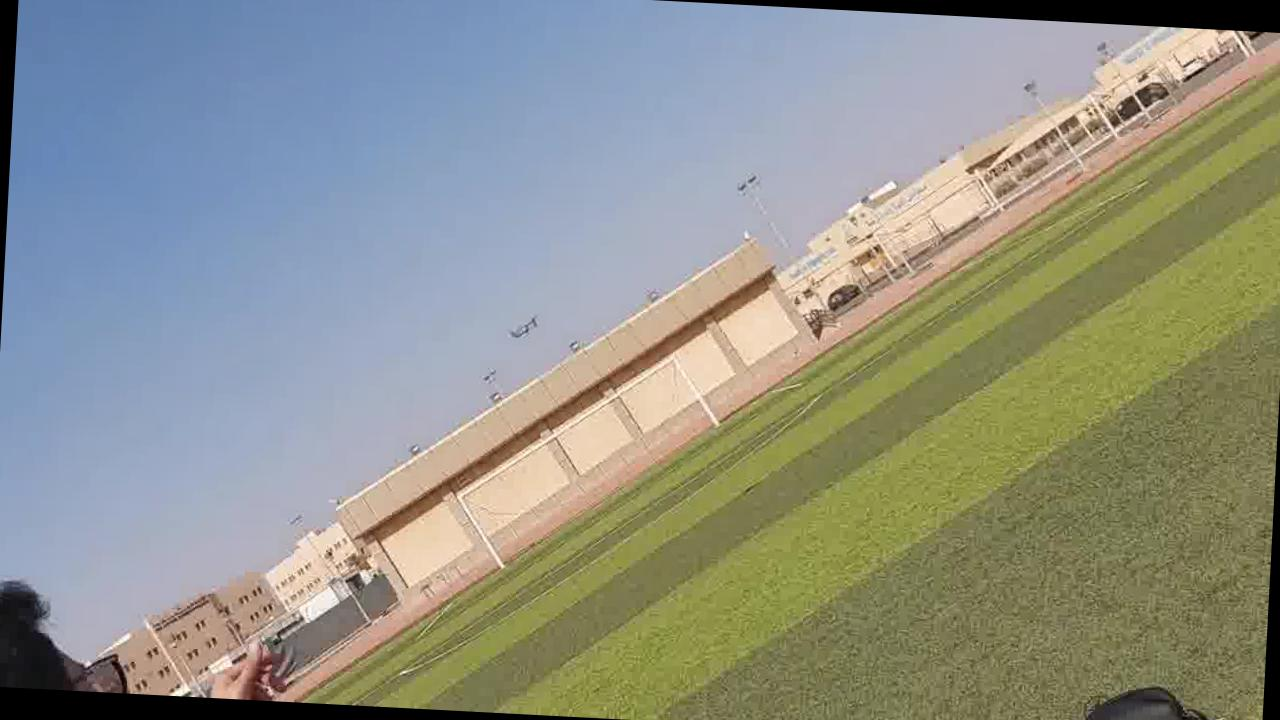drone: (500, 304, 544, 342)
